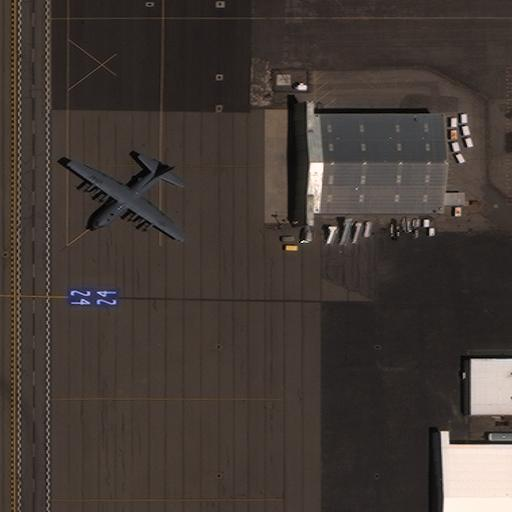Military Transport: (66, 165, 182, 243)
